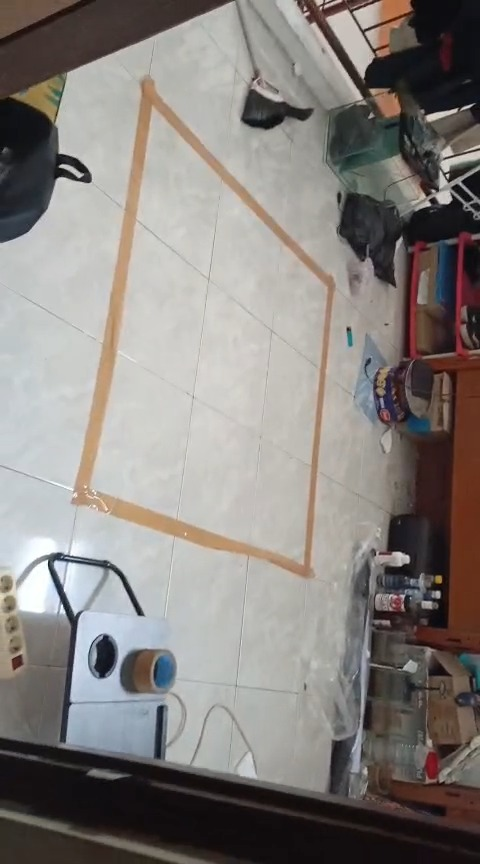floor marking: (71, 77, 332, 577)
